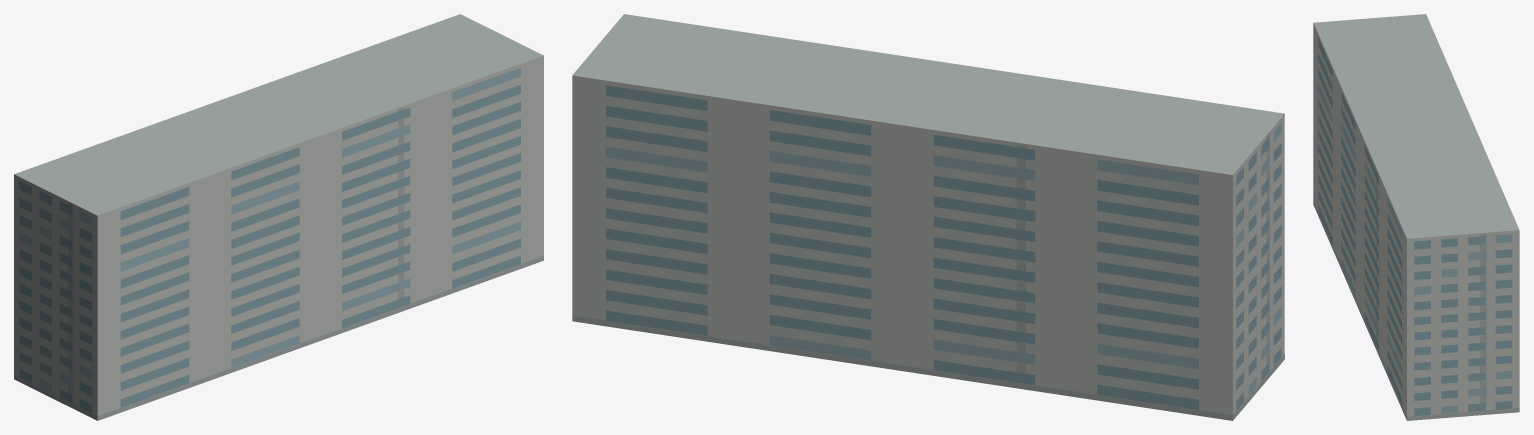
Rendered from residential-16e7dcc7-267b-4972-a9b6-63b0db253b17.glb.
The picture shows the model from 3 angles, left to right: view 1: azimuth 30°, elevation 25°; view 2: azimuth 150°, elevation 25°; view 3: azimuth 270°, elevation 25°; orthographic projection. The views are drawn at different scales.
Parts seen in each view (by area): view 1: residential-16e7dcc7-267b-4972-a9b6-63b0db253b17.tmp; view 2: residential-16e7dcc7-267b-4972-a9b6-63b0db253b17.tmp; view 3: residential-16e7dcc7-267b-4972-a9b6-63b0db253b17.tmp.
Boxes of the visible parts, x1,y1,x2,y2 form: residential-16e7dcc7-267b-4972-a9b6-63b0db253b17.tmp: [14, 14, 543, 420]; residential-16e7dcc7-267b-4972-a9b6-63b0db253b17.tmp: [572, 14, 1284, 420]; residential-16e7dcc7-267b-4972-a9b6-63b0db253b17.tmp: [1313, 14, 1519, 420].
Size of the model in its own units: 87.36 by 33 by 33.85.
